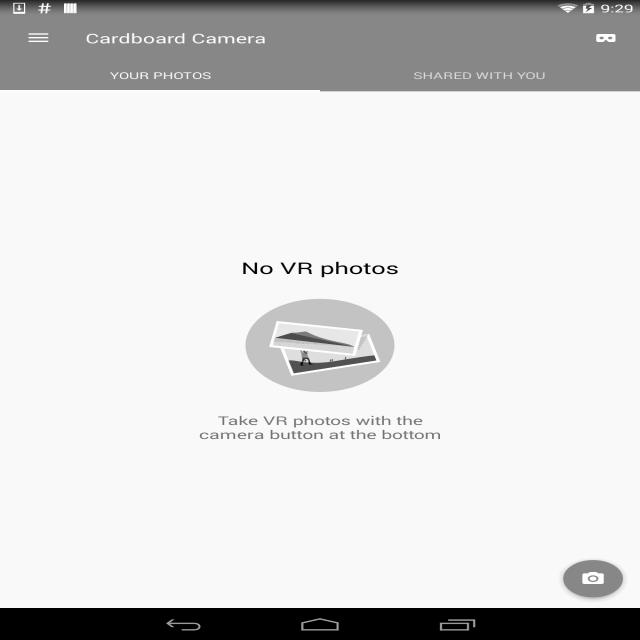ImageButton: (550, 548, 636, 609), (9, 17, 68, 59)
ImageView: (245, 299, 395, 392)
TextView: (187, 412, 453, 442), (241, 257, 399, 279), (85, 29, 267, 47), (413, 69, 546, 82), (580, 22, 632, 54), (109, 69, 211, 82)
